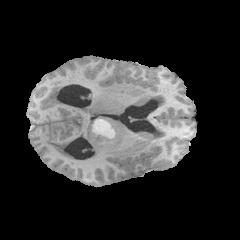glioma: (87, 116, 121, 150)
